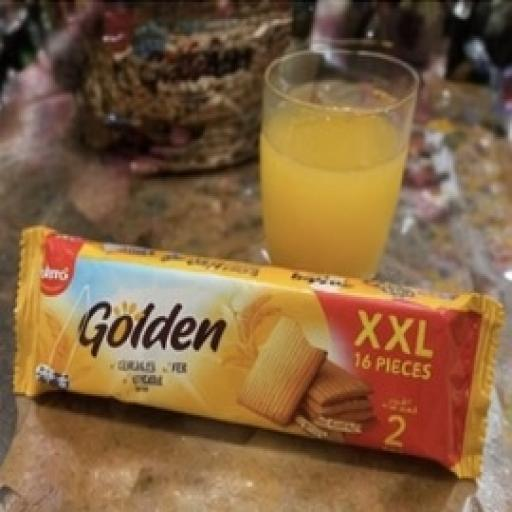golden: (12, 178, 508, 511)
